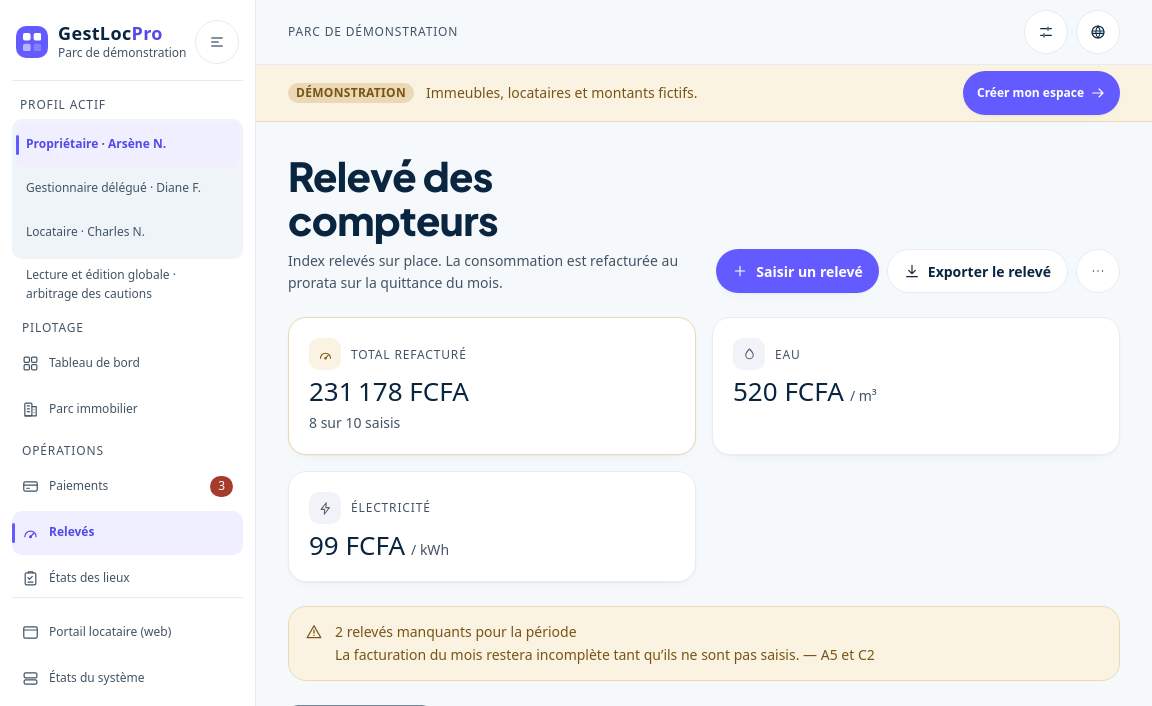
Test: l’écran des relevés › exige AU MOINS un des deux index
What coordinates should you click on to do the following:
click the button "Saisir un relevé"
I would click on:
 (798, 271)
Its box is [716, 249, 879, 293].
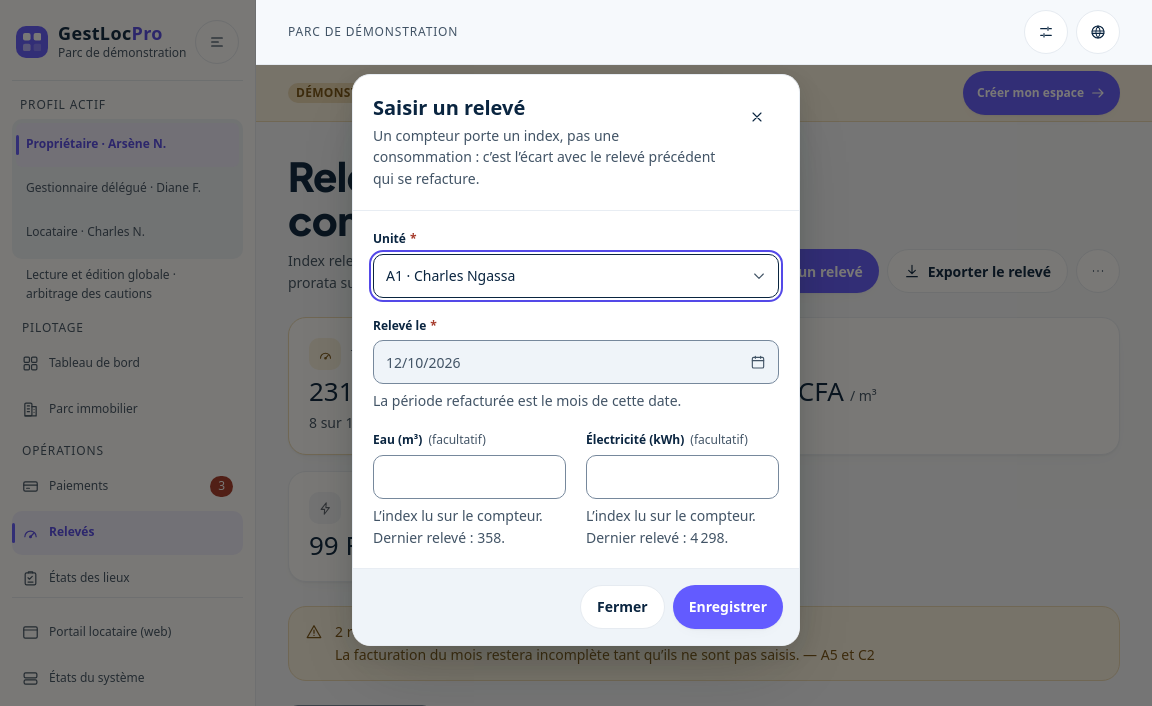
What coordinates should you click on to do the following:
click the button "Enregistrer"
I would click on:
 (728, 607)
Its box is [673, 585, 783, 629].
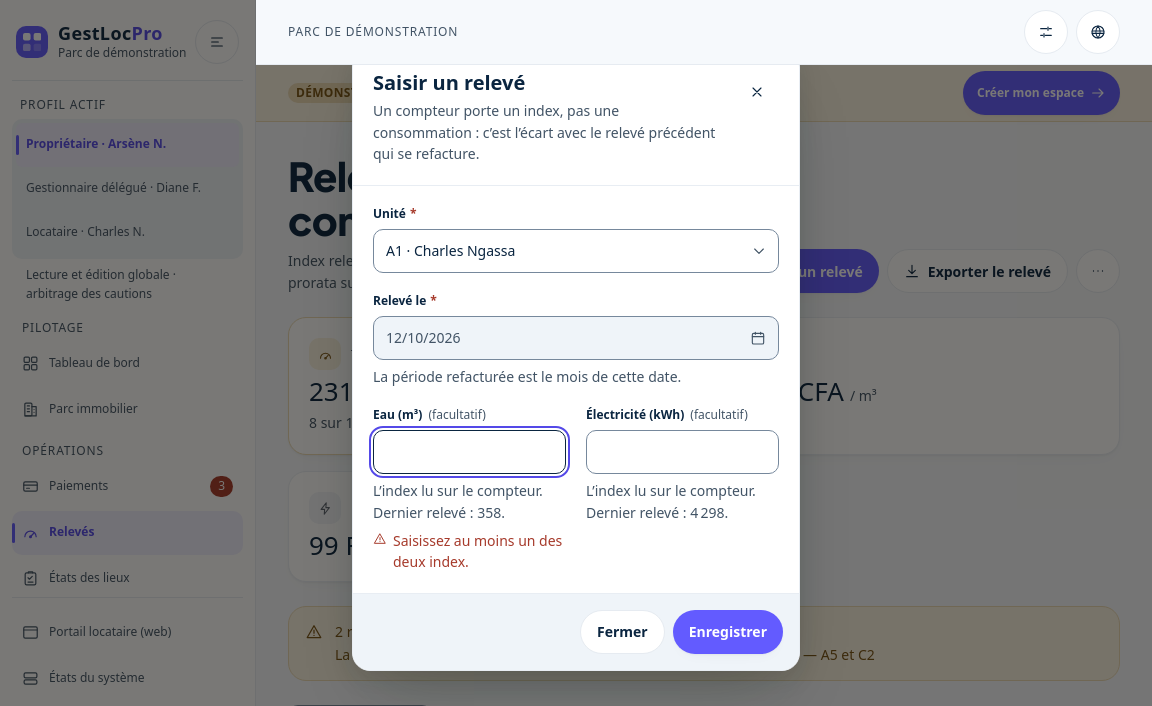
Check: the text "Saisissez au moins un des deux index." is shown, box [373, 530, 566, 573]
